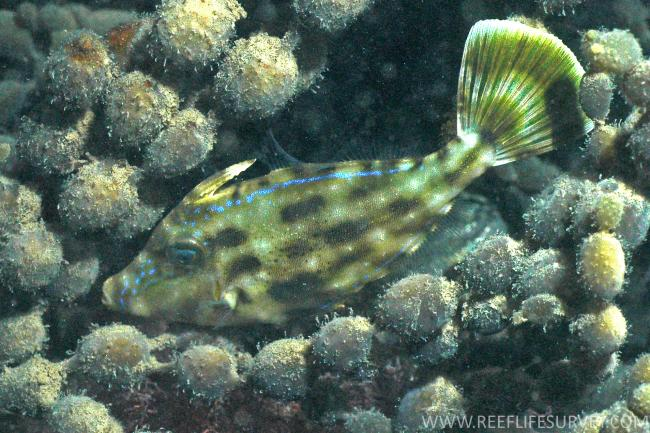fish: (101, 18, 596, 330)
